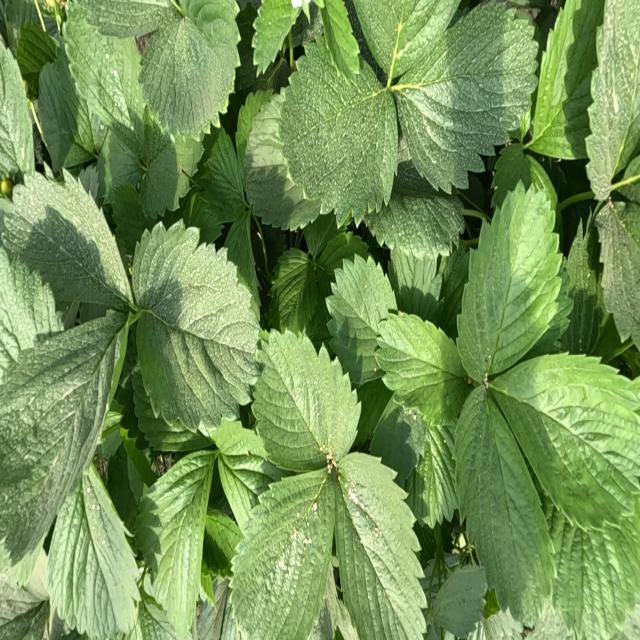Leaves: (0, 309, 127, 561), (389, 2, 536, 191), (493, 353, 638, 530), (134, 222, 257, 430), (458, 390, 554, 626), (281, 38, 398, 217), (459, 184, 563, 377), (231, 467, 335, 639), (329, 452, 423, 639), (2, 174, 130, 305), (48, 472, 139, 638), (253, 332, 359, 472), (137, 450, 217, 631), (140, 0, 239, 137), (527, 0, 603, 159), (236, 91, 317, 228), (552, 514, 639, 639), (586, 1, 639, 201), (64, 13, 144, 144), (376, 313, 466, 423), (326, 255, 395, 383), (0, 247, 62, 379), (355, 0, 459, 76), (140, 110, 203, 219), (367, 191, 463, 259), (37, 59, 96, 169), (596, 203, 639, 346), (193, 127, 246, 240), (407, 421, 458, 529), (563, 221, 600, 354), (0, 549, 51, 639), (369, 401, 426, 481), (1, 40, 33, 180), (492, 144, 556, 211), (268, 249, 318, 332), (434, 565, 487, 635), (389, 248, 441, 319), (225, 212, 260, 316), (75, 1, 171, 38), (314, 0, 359, 78), (252, 0, 299, 73), (99, 121, 142, 200), (111, 184, 157, 254), (436, 244, 470, 338), (197, 579, 236, 639), (205, 511, 241, 571), (139, 600, 178, 639), (221, 597, 238, 639)
